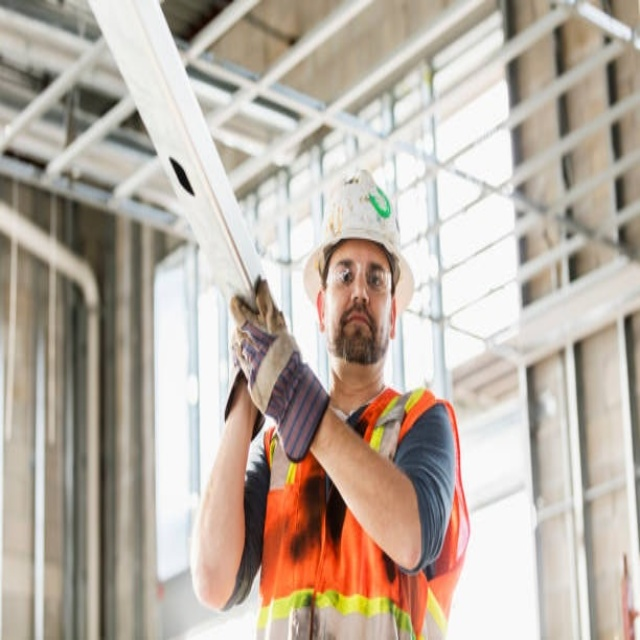Gafas: (325, 259, 394, 296)
Guantes: (230, 281, 331, 460)
Sin_mascara: (339, 304, 374, 348)
